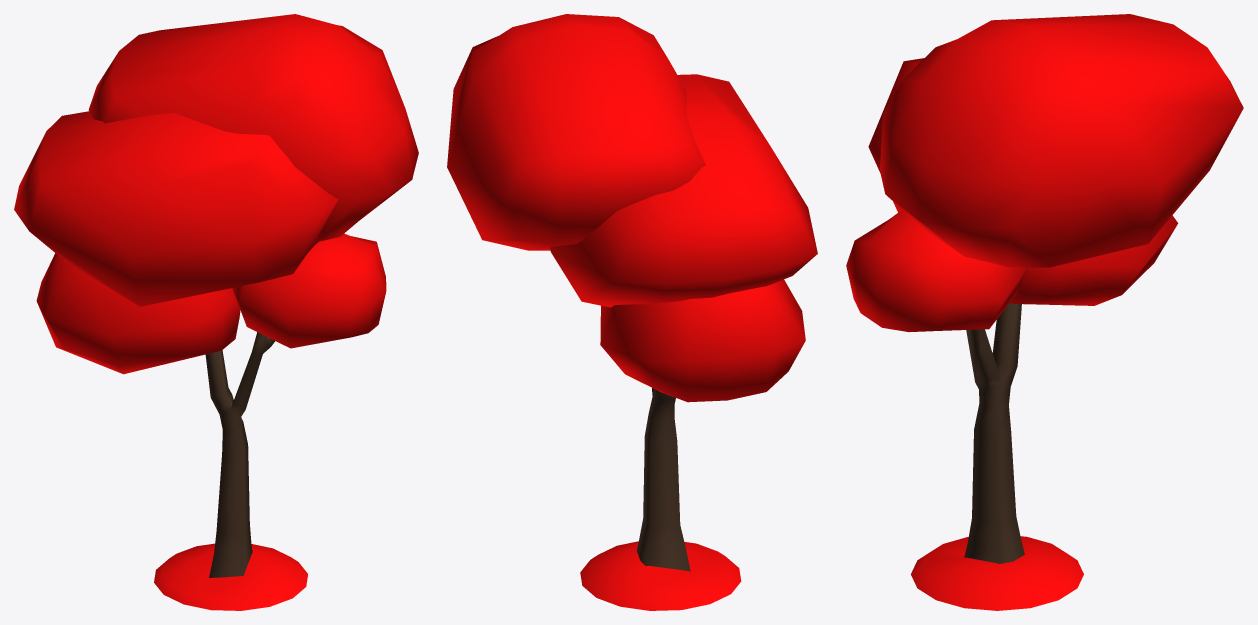
File: Red tree 2.fbx
The picture shows the model from 3 angles, left to right: view 1: azimuth 30°, elevation 25°; view 2: azimuth 150°, elevation 25°; view 3: azimuth 270°, elevation 25°; orthographic projection. The views are drawn at different scales.
Parts seen in each view (by area): view 1: Tree-01.002; view 2: Tree-01.002; view 3: Tree-01.002.
Part boxes in pixels (left/top/right/bottom): Tree-01.002: left=14, top=14, right=418, bottom=610; Tree-01.002: left=447, top=14, right=817, bottom=610; Tree-01.002: left=846, top=14, right=1243, bottom=610.
Bounding box in the file's own units: 362 × 509 × 315.
